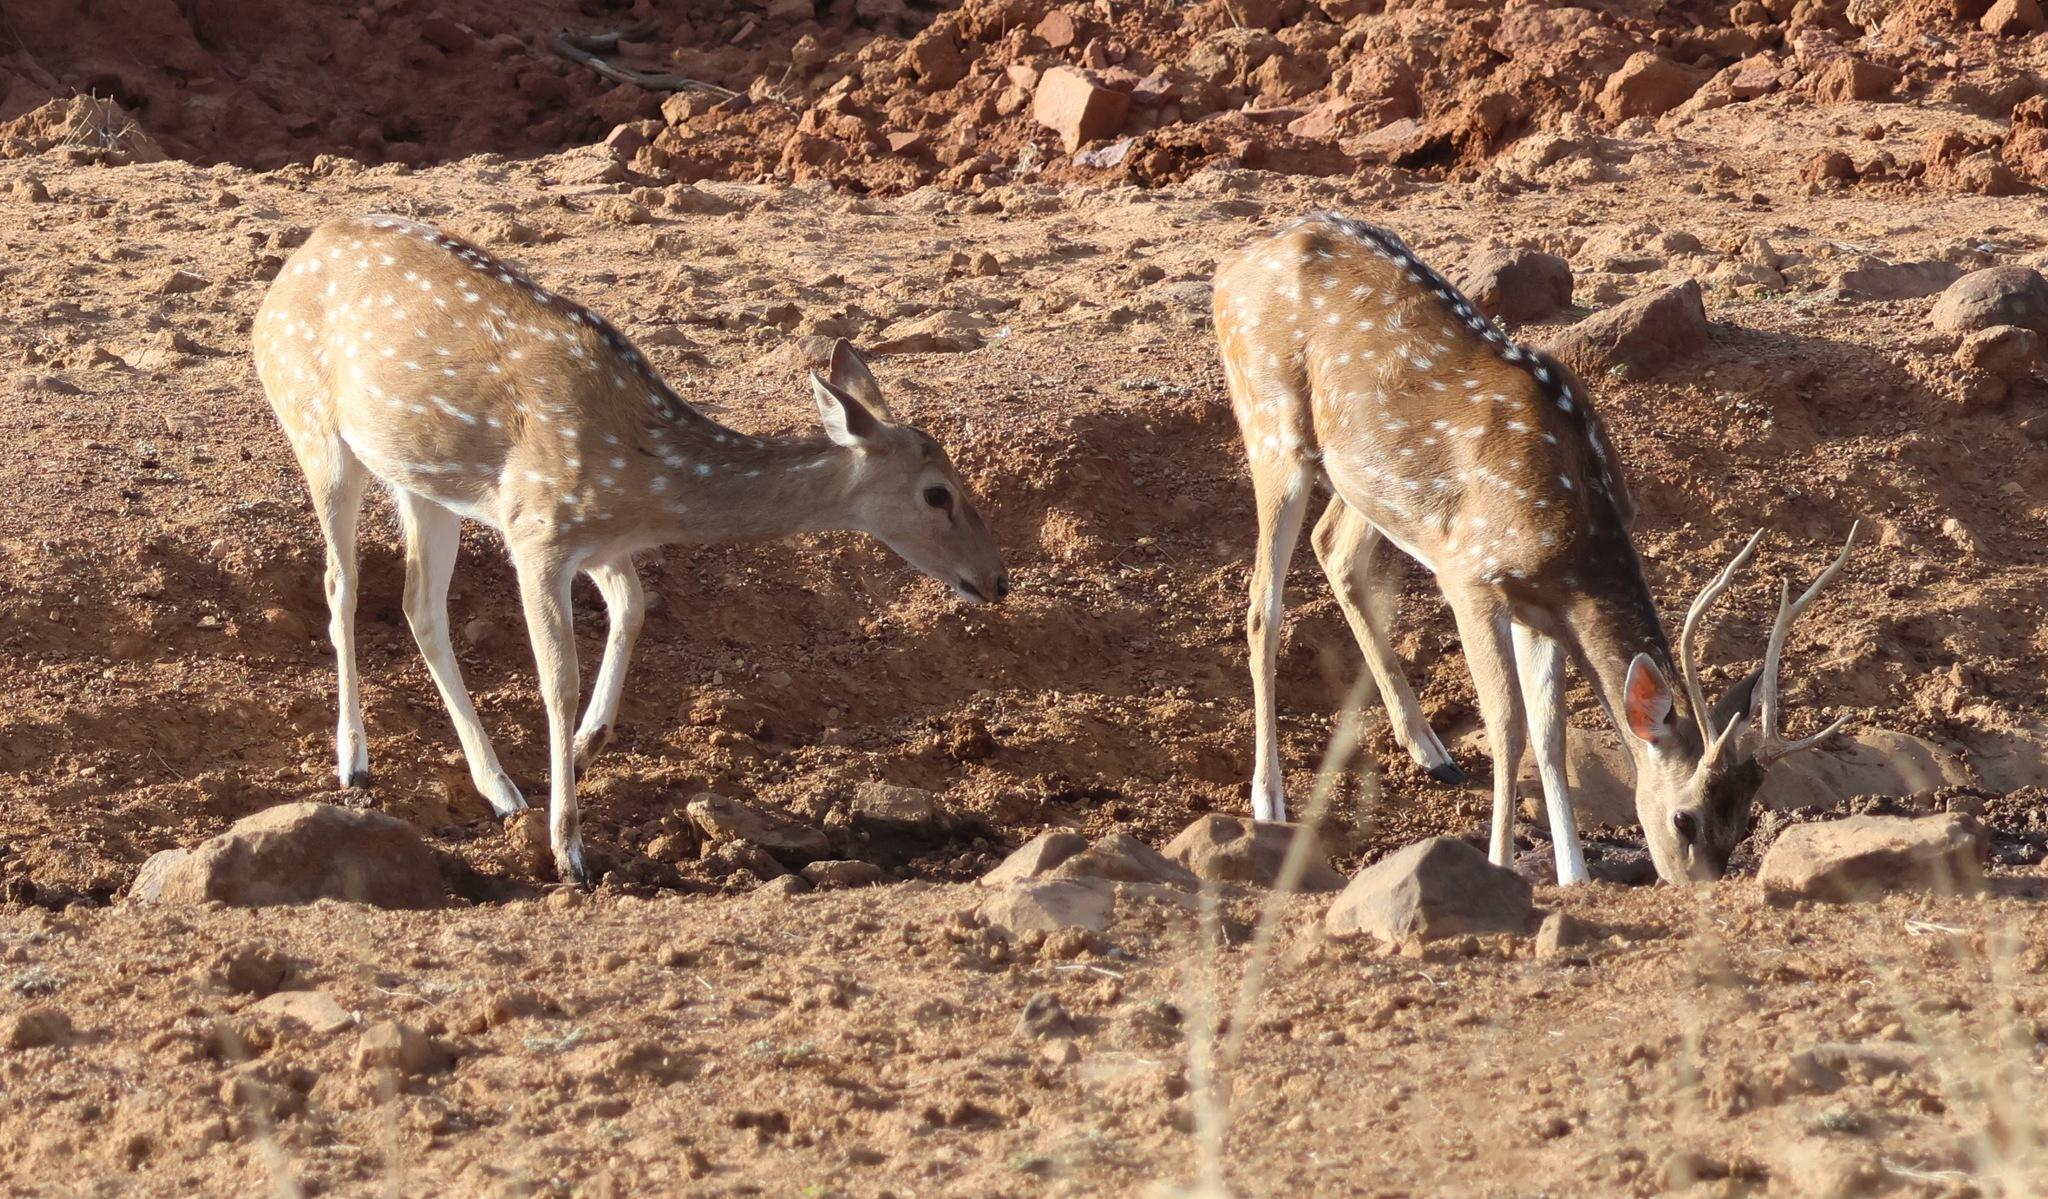Deer: (253, 214, 1006, 881), (1215, 213, 1852, 885)
